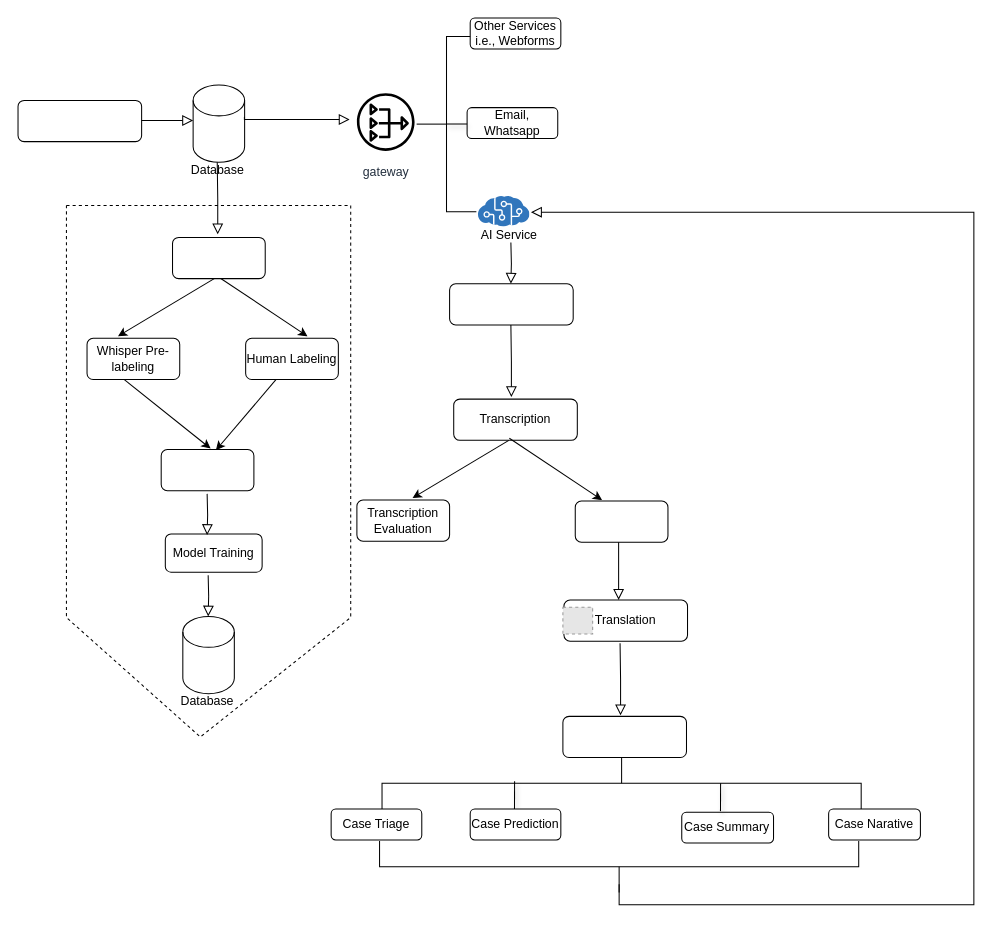
This 1002x933 diagram has some shape labels left out. Grey dashed boxes stand in for pictures. The centre of each missing label's shape, as x and y in pixels:
"Audio Labeling" goes at point 218,257.
"Audio processing" goes at point 511,304.
"Data Ingestion" goes at point 79,120.
"Language detection" goes at point 621,521.
"NLP Processes" goes at point 624,736.
"Valiation" goes at point 207,470.
